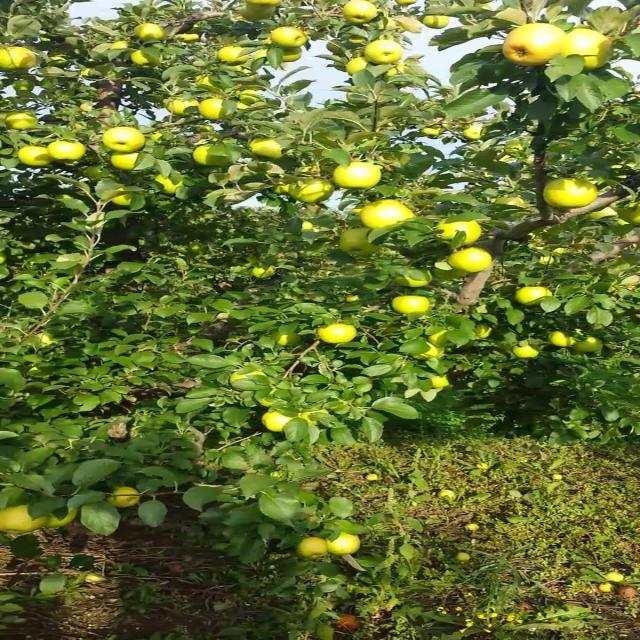apple: (504, 24, 565, 68), (547, 176, 599, 210), (563, 28, 612, 64), (362, 200, 418, 231), (333, 160, 384, 191), (440, 220, 484, 248), (340, 232, 382, 259), (447, 248, 492, 273), (362, 40, 405, 65), (292, 180, 336, 204), (191, 144, 235, 168), (6, 508, 46, 534), (340, 0, 379, 25), (106, 128, 146, 152), (390, 296, 434, 316), (198, 100, 238, 122), (433, 260, 471, 283), (269, 28, 311, 48), (234, 4, 277, 23), (319, 324, 359, 344), (490, 8, 532, 27), (248, 140, 286, 160), (326, 536, 363, 556), (518, 288, 555, 308), (383, 60, 420, 80), (205, 100, 238, 122), (106, 488, 142, 508), (6, 112, 41, 132), (20, 148, 55, 168), (262, 412, 297, 432), (49, 144, 87, 162), (376, 152, 412, 171), (298, 540, 329, 561), (6, 48, 34, 71), (134, 24, 167, 43), (397, 272, 434, 288), (49, 508, 78, 528), (397, 16, 427, 35), (156, 176, 185, 195), (412, 344, 446, 360), (134, 48, 162, 67), (461, 124, 492, 141), (170, 100, 199, 118), (575, 336, 604, 354), (589, 204, 619, 221), (220, 48, 249, 65), (276, 332, 306, 348), (276, 48, 306, 64), (426, 328, 450, 348), (305, 408, 331, 426), (248, 160, 279, 175), (511, 344, 540, 360), (547, 332, 576, 348), (234, 88, 263, 104), (383, 64, 412, 80), (618, 204, 639, 226), (13, 52, 37, 71), (333, 616, 363, 631), (113, 156, 140, 172), (497, 196, 528, 209), (271, 180, 295, 196), (234, 368, 265, 380), (504, 140, 528, 155), (426, 16, 450, 30), (113, 192, 135, 207), (348, 60, 370, 75), (198, 76, 220, 91), (234, 12, 263, 23), (84, 168, 108, 180), (35, 336, 60, 347), (255, 268, 277, 280), (49, 56, 71, 68), (476, 324, 492, 340), (234, 100, 254, 112), (419, 128, 444, 137), (433, 376, 450, 389), (625, 276, 639, 291), (177, 36, 201, 44), (13, 84, 36, 92), (348, 36, 368, 45), (255, 48, 270, 60), (262, 396, 277, 408), (191, 244, 206, 255), (148, 132, 164, 142), (305, 220, 318, 232), (113, 44, 130, 52), (348, 296, 363, 304), (611, 576, 624, 583), (476, 532, 487, 540), (84, 68, 94, 76), (604, 584, 613, 592), (260, 4, 276, 7), (461, 556, 469, 560), (404, 4, 409, 7)
